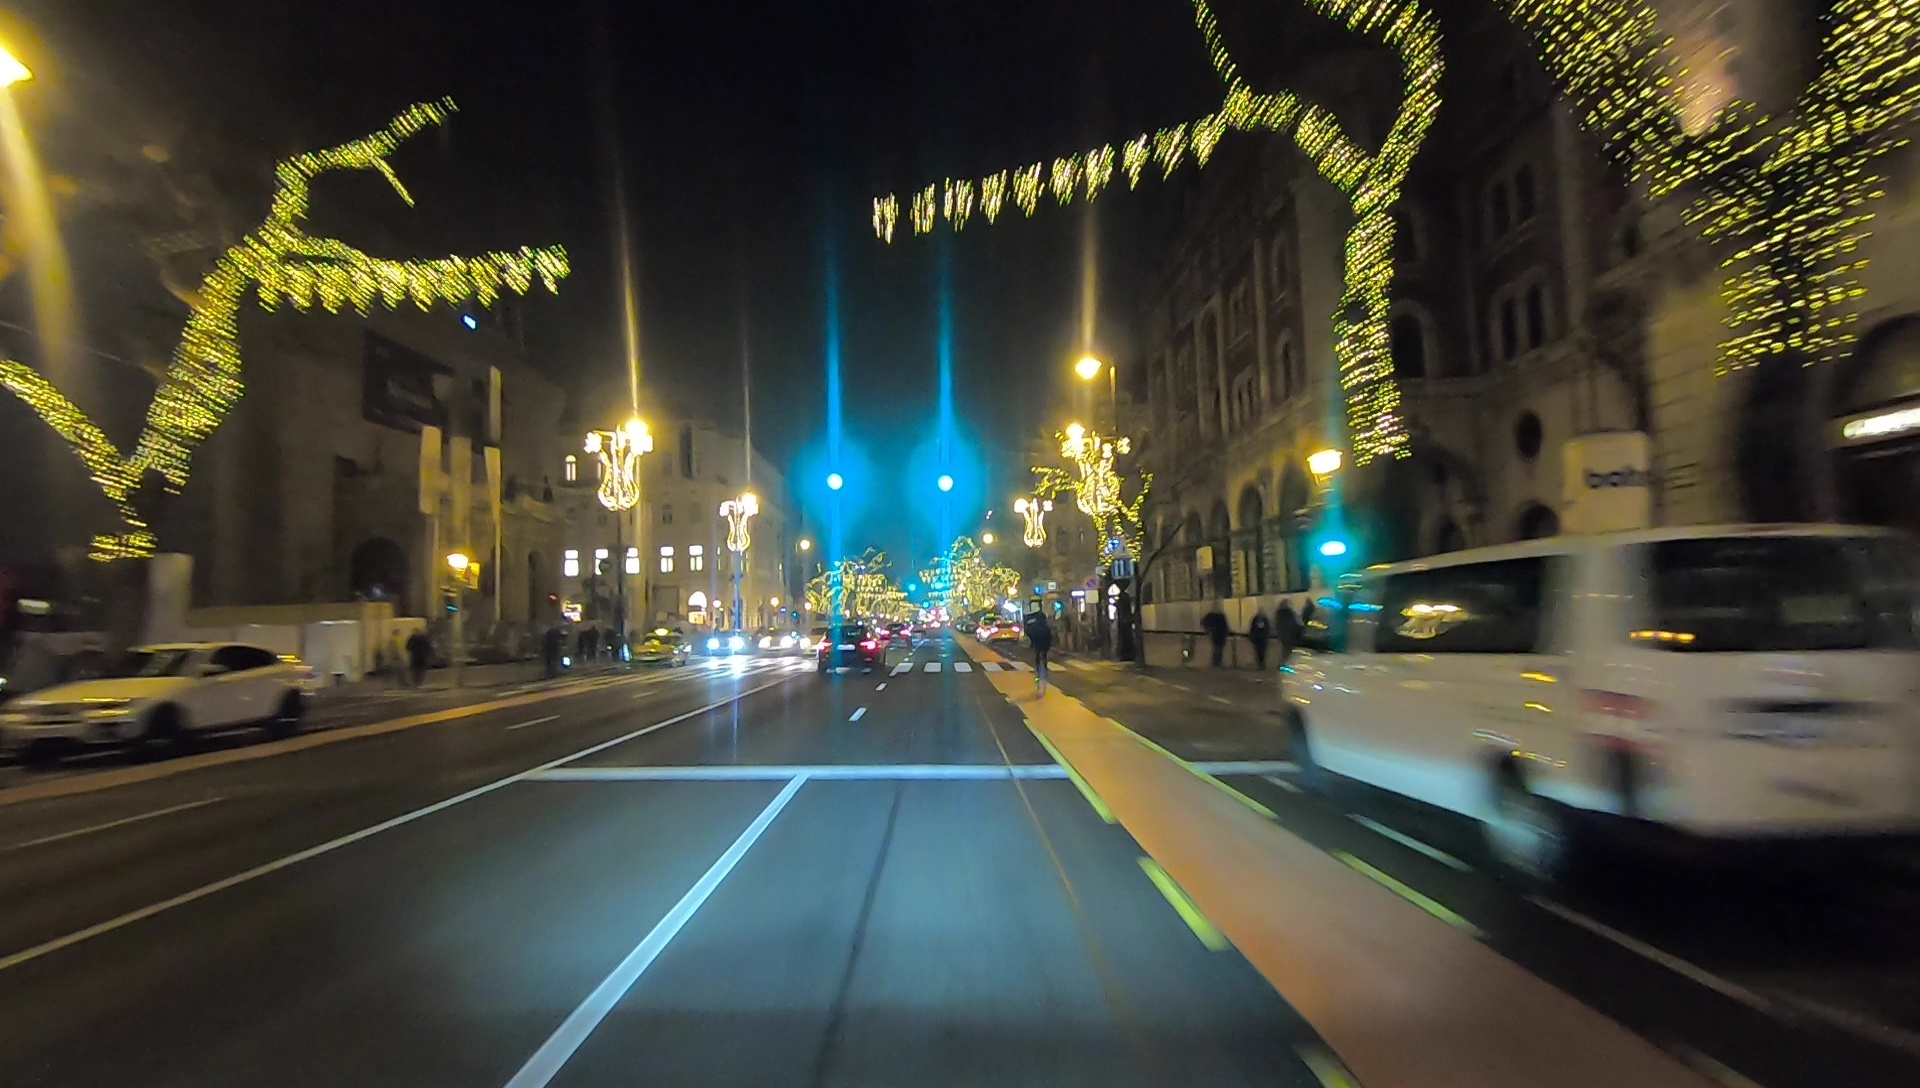person: (1199, 604, 1226, 674), (1278, 602, 1302, 682), (1247, 602, 1271, 669)
